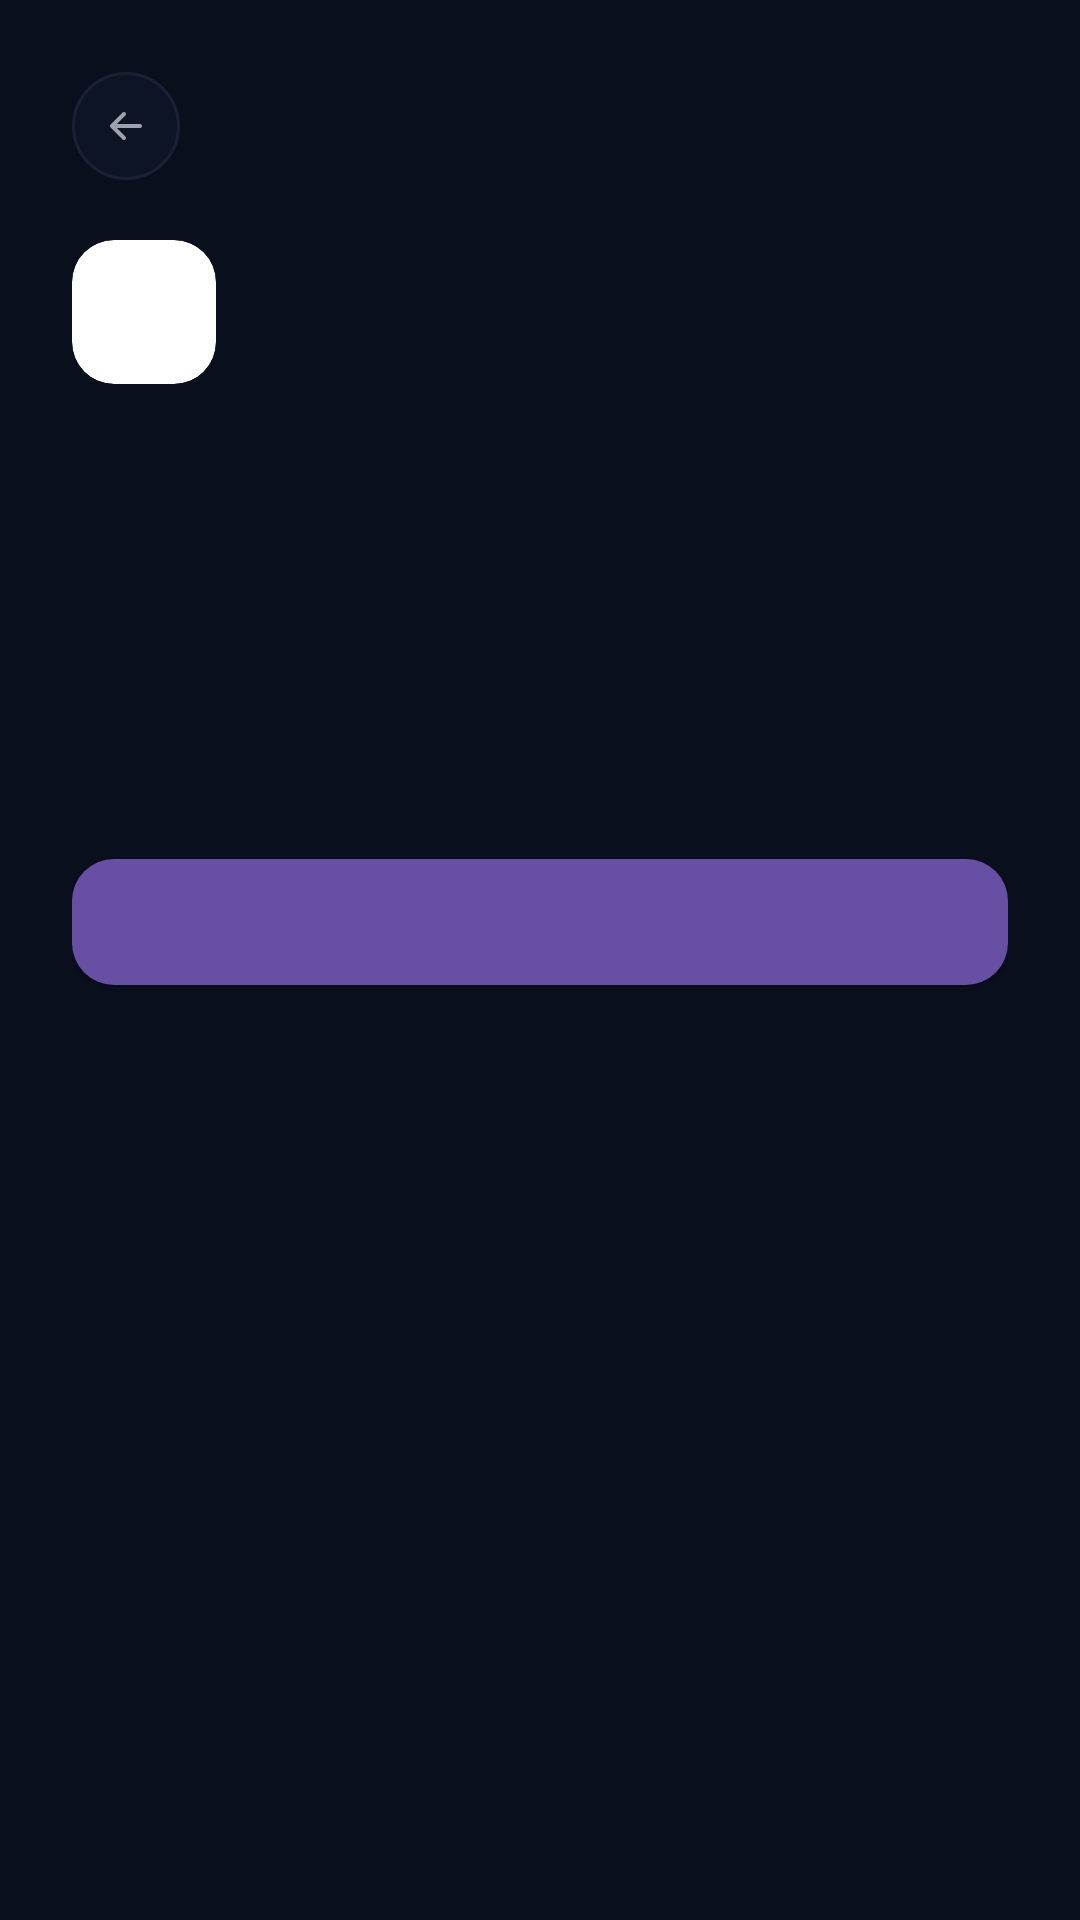

Named icons in this screenshot (1080*1920) and their bounding boxes, [x1,y1,x2,y2]:
arrow back: [110,112,142,140]
